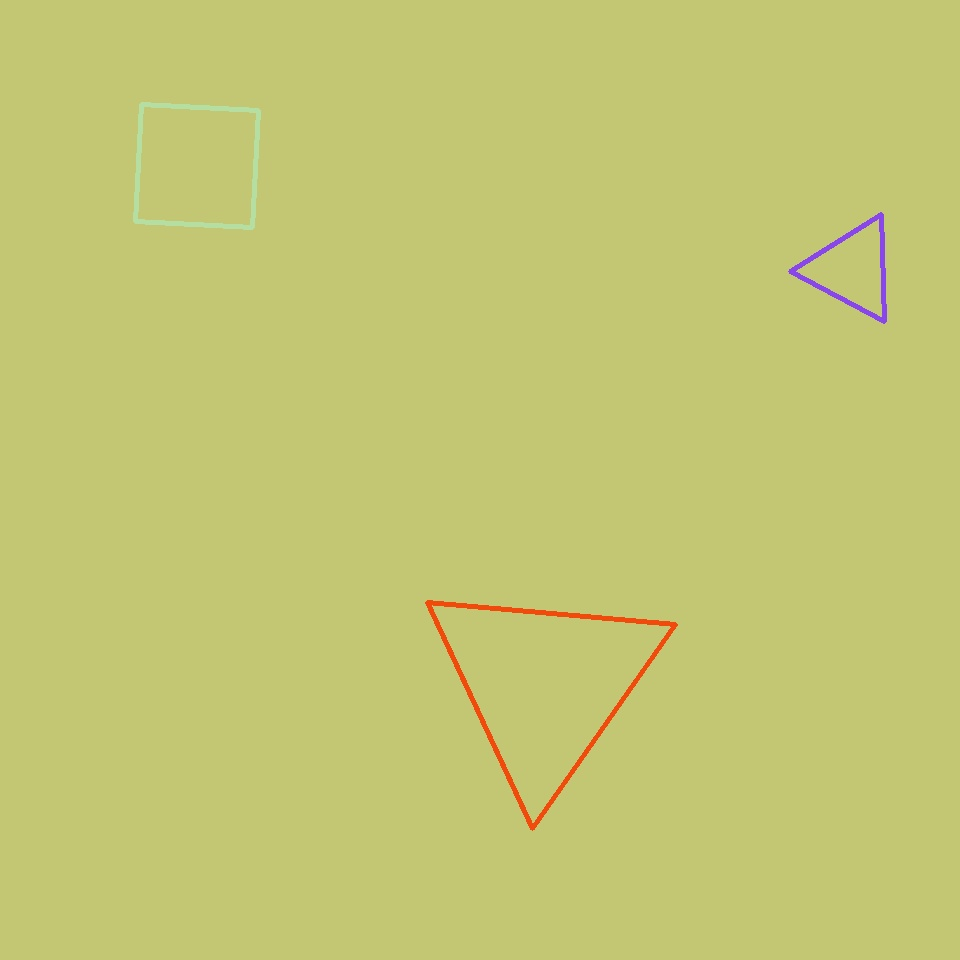circle: (421, 572, 669, 798), (805, 216, 899, 322)
square: (136, 104, 258, 228)
